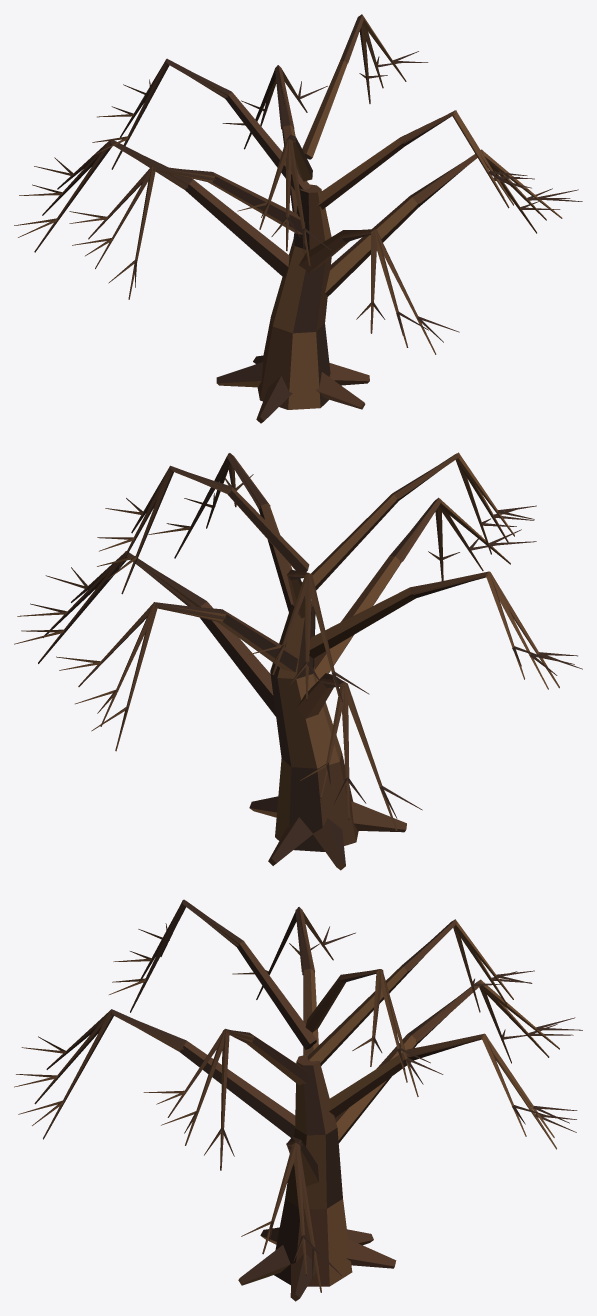
The model's file is tree_willow_bare.obj.
The picture shows the model from 3 angles, top to bottom: view 1: azimuth 30°, elevation 25°; view 2: azimuth 150°, elevation 25°; view 3: azimuth 270°, elevation 25°; orthographic projection. The views are drawn at different scales.
Parts seen in each view (by area): view 1: tree_willow_bare; view 2: tree_willow_bare; view 3: tree_willow_bare.
Boxes of the visible parts, x1=… form: tree_willow_bare: x1=14, y1=14, x2=582, y2=423; tree_willow_bare: x1=14, y1=452, x2=582, y2=870; tree_willow_bare: x1=14, y1=899, x2=582, y2=1301.
Bounding box in the file's own units: 777 × 510 × 742.
Materials: 1 (1 with a texture image).
